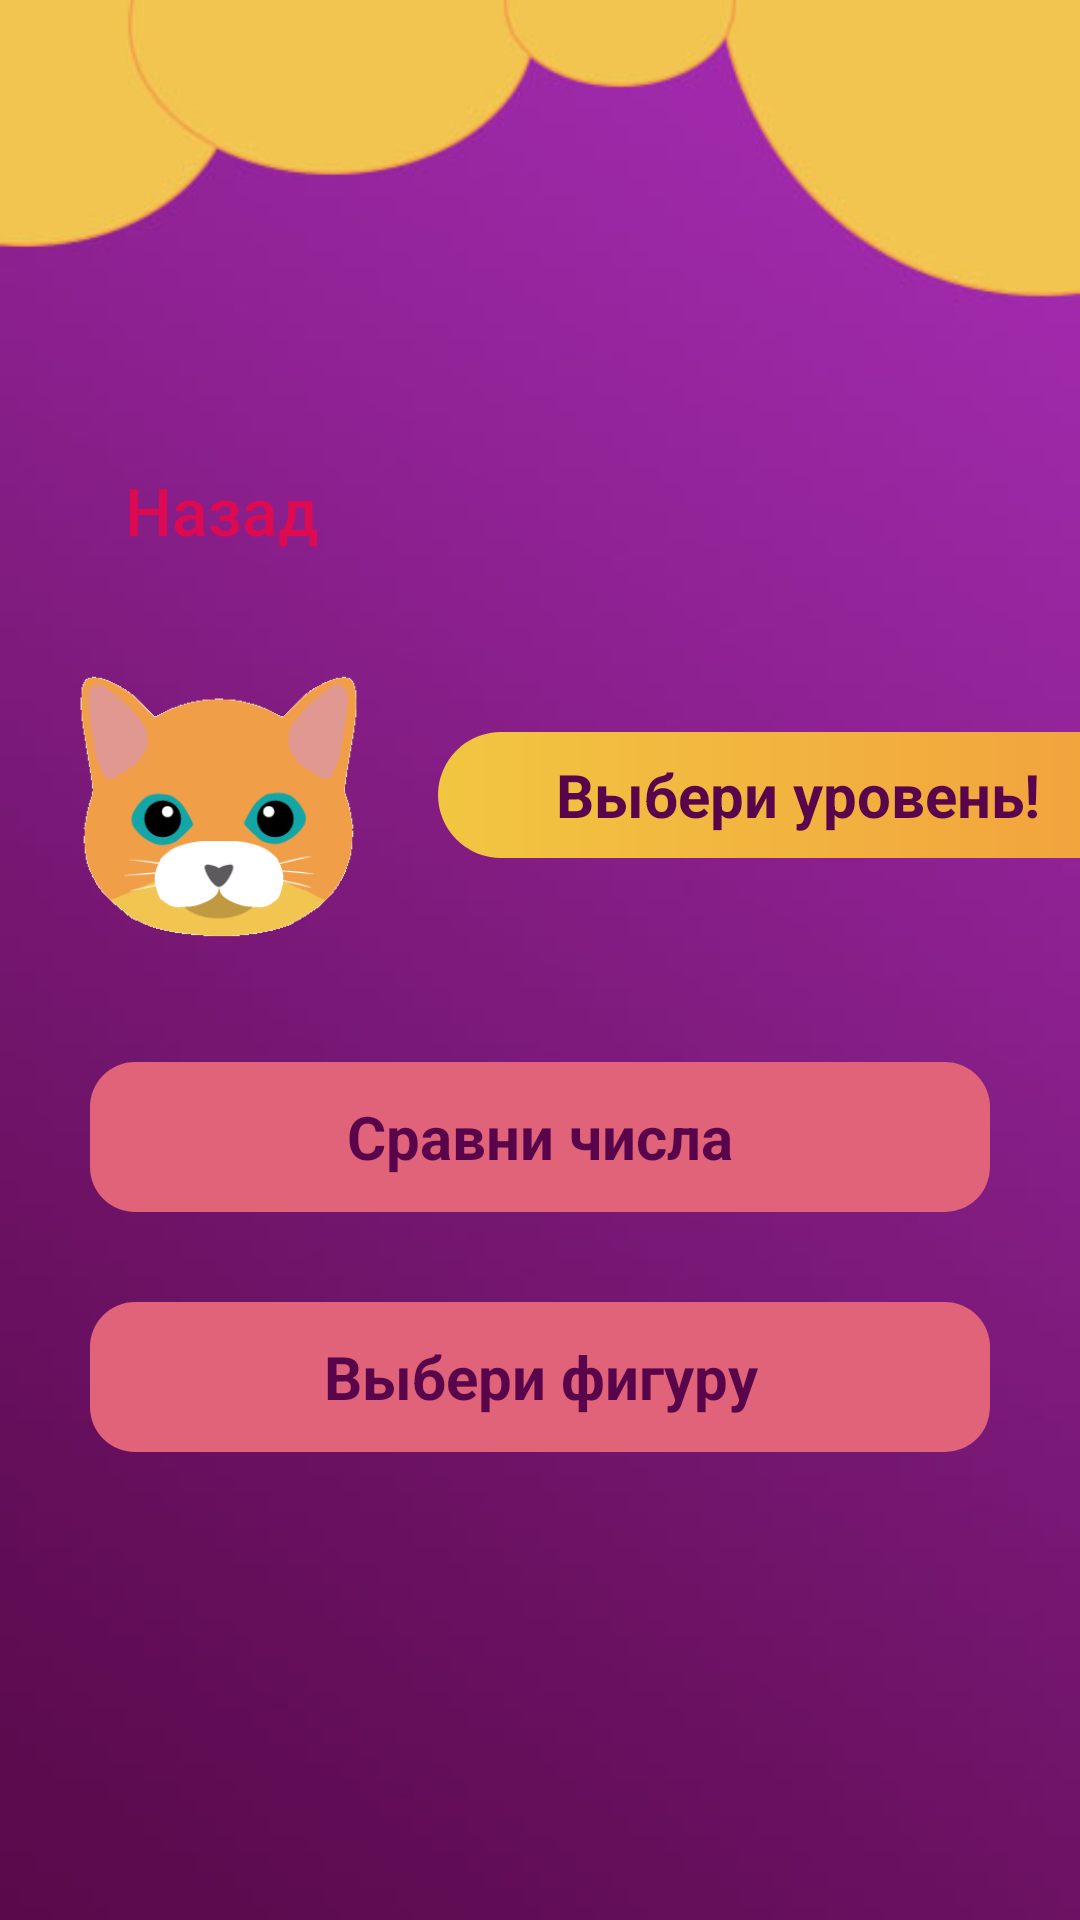

Screen size 1080w x 1920h. Icon name, then its center in pixels as (x,y):
cat: (218,806)
